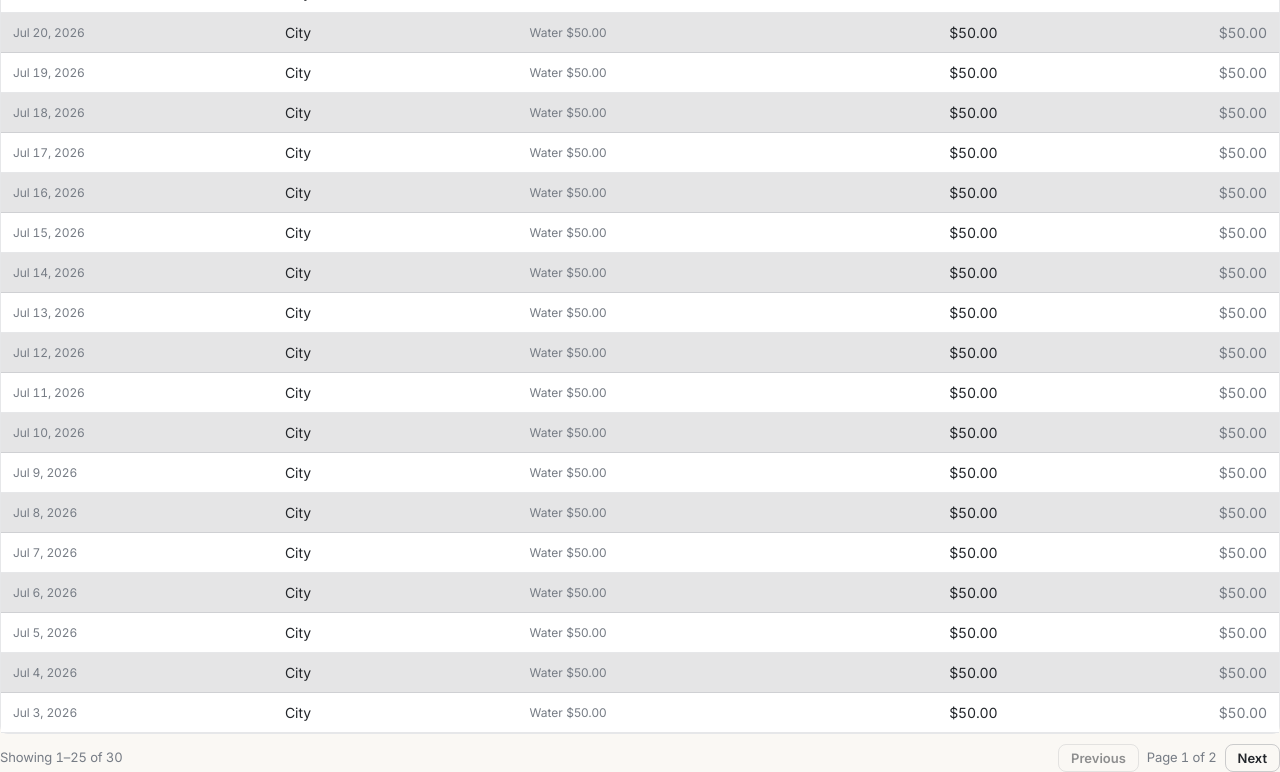
Scenario: Utilities page › paginates the paid invoices table
The width and height of the screenshot is (1280, 772).
(page scrolled)
Expected: the text "Page 1 of 2" is shown, [1147,748,1216,768]
Step 1. Click the button "Next" → (1252, 758), box [1224,744,1279,771]
(page scrolled)
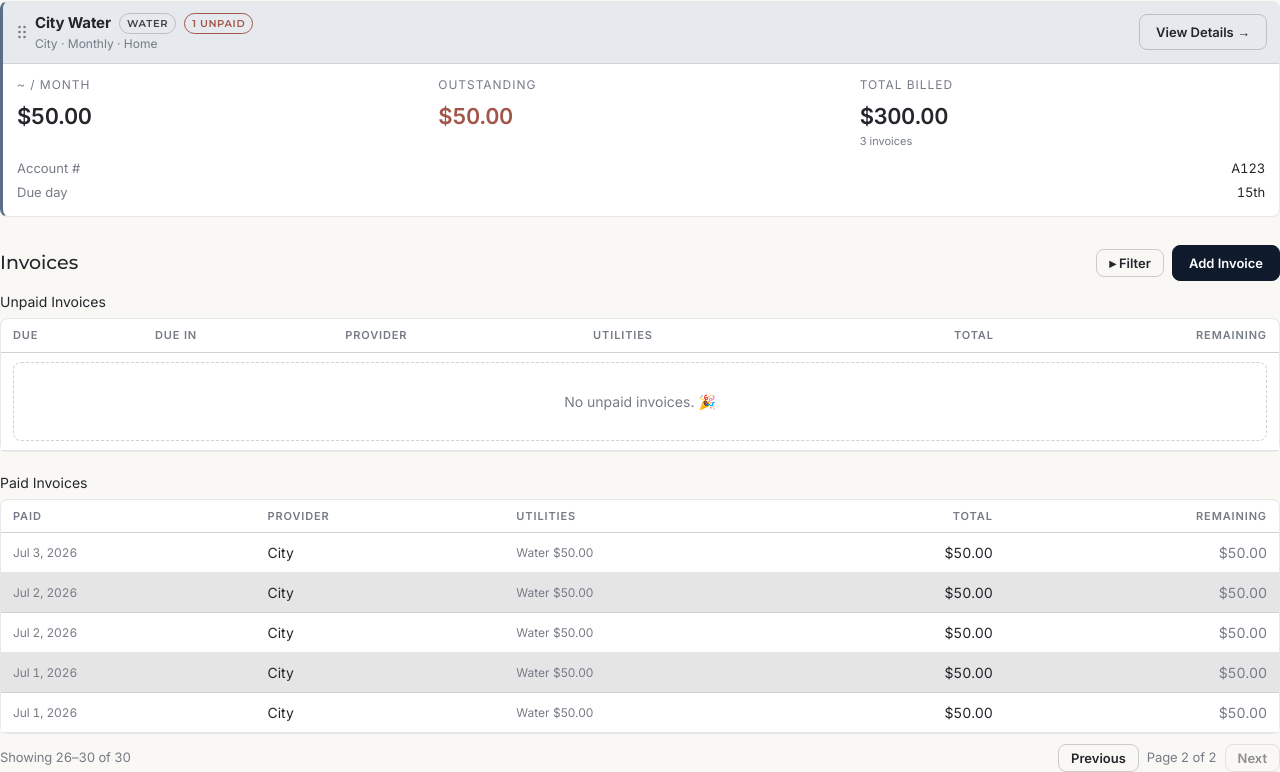
Result: the text "Page 2 of 2" is shown at [1147,748,1216,768]
Step 2. Click the button "Previous" → (1098, 758), box [1058,744,1139,771]
(page scrolled)
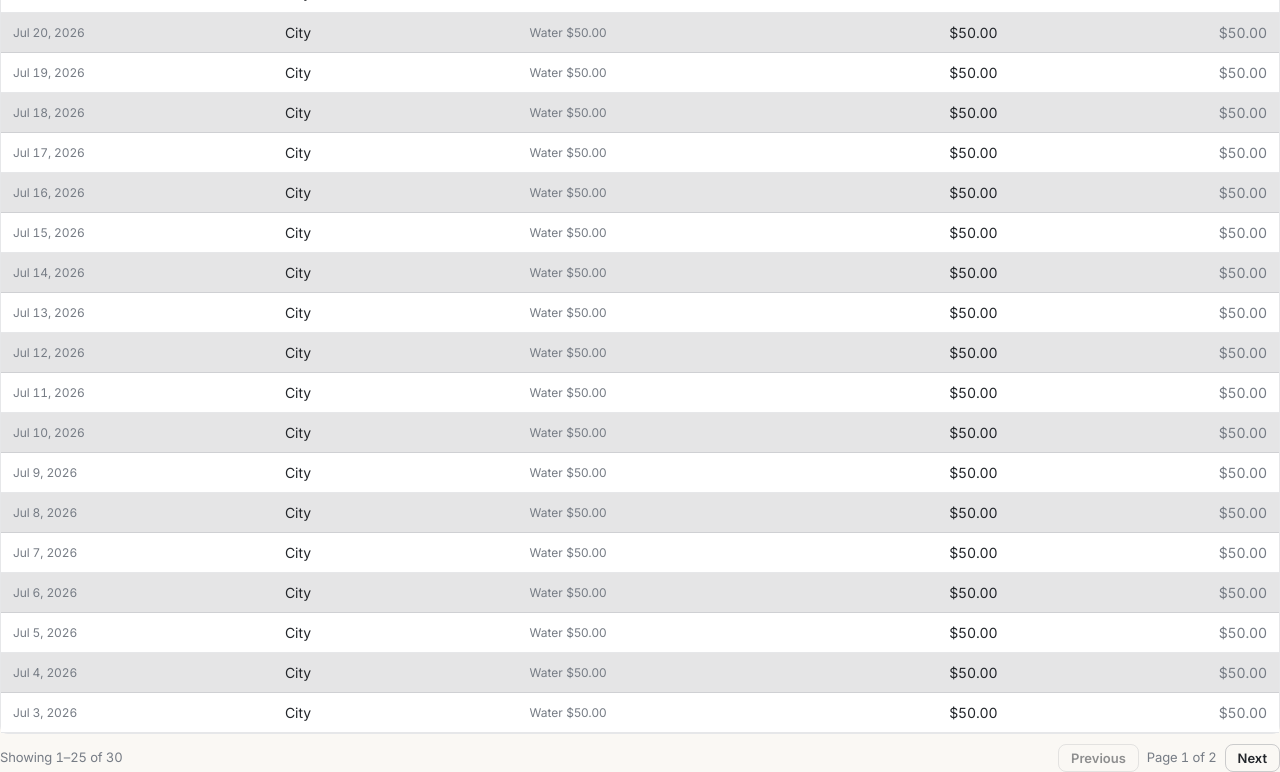
Result: the text "Page 1 of 2" is shown at [1147,748,1216,768]
